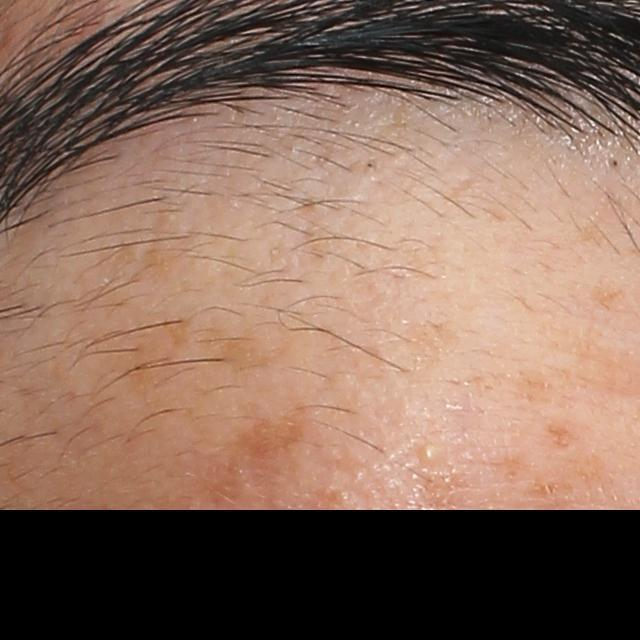comedo: (412, 440, 447, 472)
melasma: (480, 454, 579, 507), (226, 401, 311, 461), (213, 332, 293, 373), (417, 469, 467, 516), (517, 363, 557, 400), (586, 282, 630, 310), (543, 423, 579, 450)
